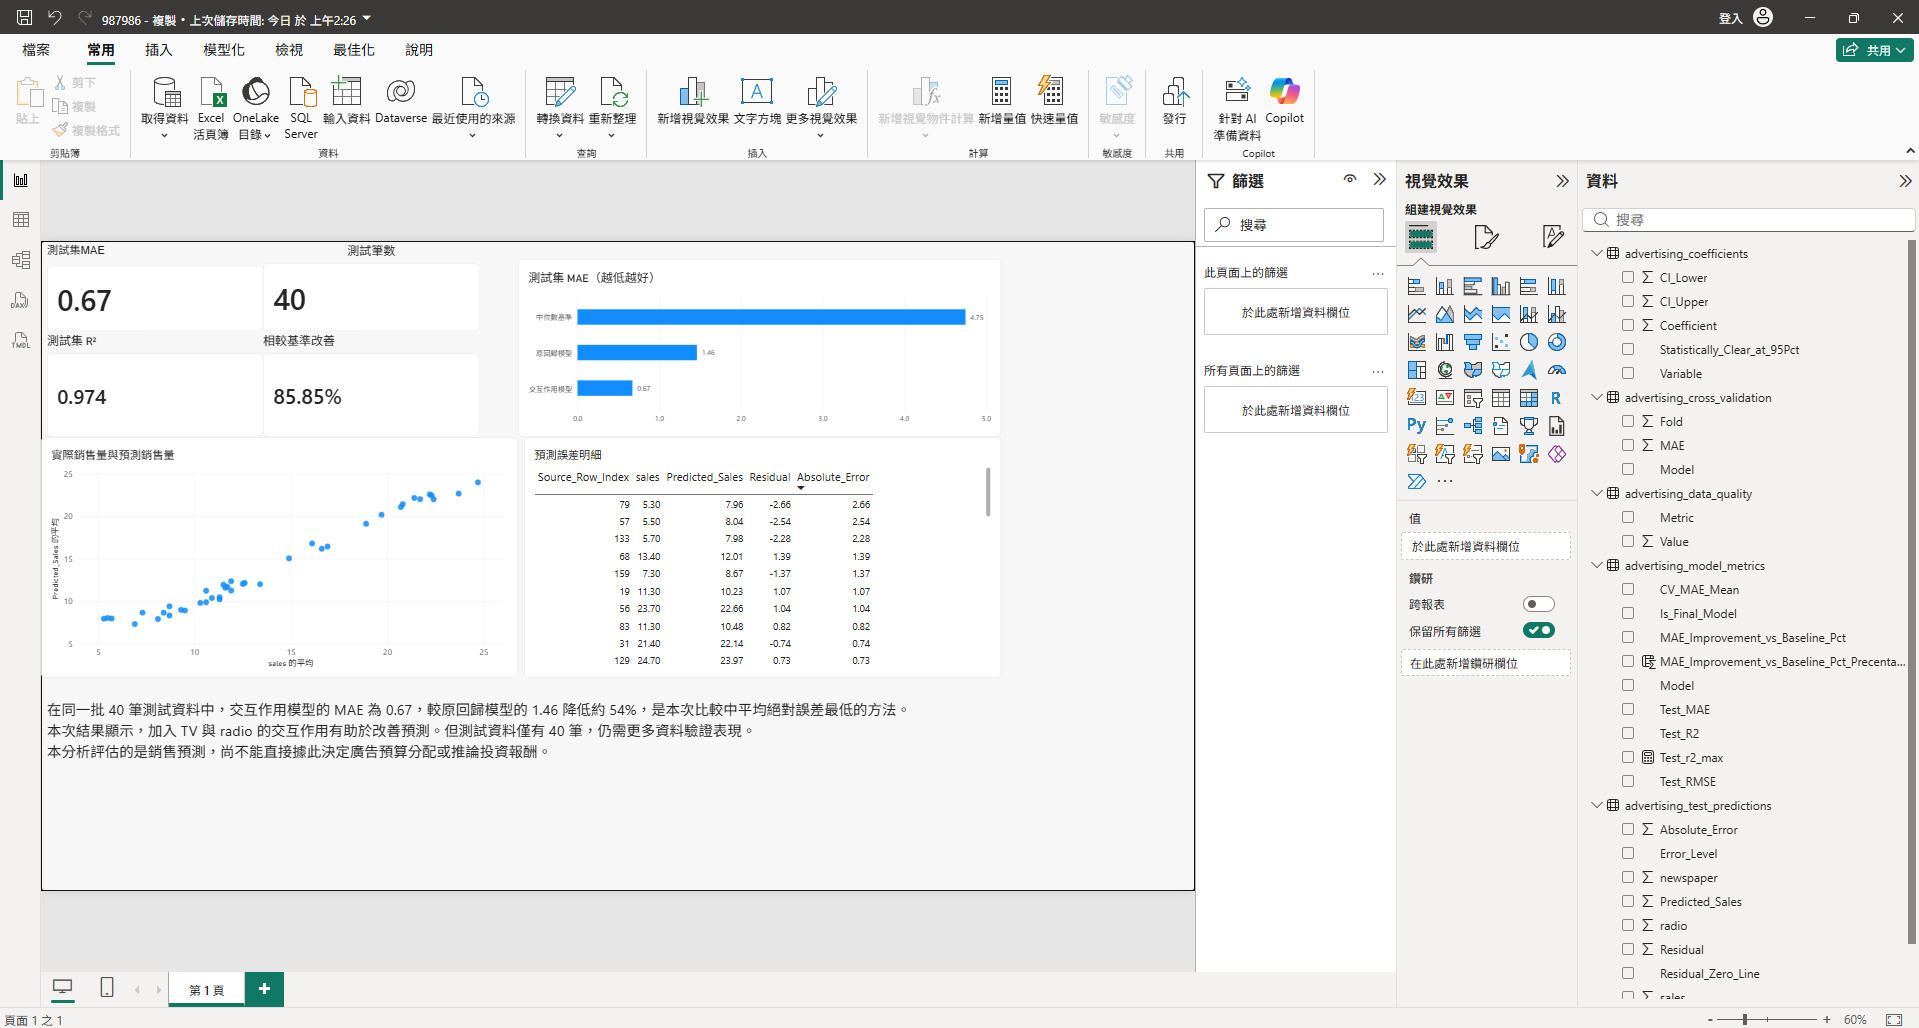

Layout of this report page (visuals, bound fields, positions):
{"tool":"powerbi","page":{"name":"模型成效總覽","canvas":[1920,1080],"ordinal":0},"visuals":[{"type":"cardVisual","title":"測試集MAE","fields":{"Data":["Avg(advertising_test_predictions.Absolute_Error)"]},"box":[10.2,0,360,150],"z":0},{"type":"cardVisual","title":"測試筆數","fields":{"Data":["CountNonNull(advertising_test_predictions.Source_Row_Index)"]},"box":[369.4,0,360,150],"z":1000},{"type":"scatterChart","title":"實際銷售量與預測銷售量","fields":{"X":["Avg(advertising_test_predictions.sales)"],"Y":["Avg(advertising_test_predictions.Predicted_Sales)"],"Category":["advertising_test_predictions.Source_Row_Index"]},"box":[0,325.3,793.7,401.2],"z":2000},{"type":"tableEx","title":"預測誤差明細","fields":{"Values":["advertising_test_predictions.Source_Row_Index","advertising_test_predictions.sales","advertising_test_predictions.Predicted_Sales","advertising_test_predictions.Residual","advertising_test_predictions.Absolute_Error"]},"box":[803.9,325.3,793.7,401.2],"z":3000},{"type":"clusteredBarChart","title":"測試集 MAE（越低越好）","fields":{"Category":["advertising_model_metrics.Model"],"Y":["Avg(advertising_model_metrics.Test_MAE)"]},"box":[793.7,29.2,803.9,296.2],"z":4000},{"type":"textbox","box":[10.2,760.1,1587.4,175.1],"z":5000},{"type":"cardVisual","title":"測試集 R²","fields":{"Data":["advertising_model_metrics.Test_r2_max"]},"box":[10,149.7,360,175],"z":6000},{"type":"cardVisual","title":"相較基準改善","fields":{"Data":["Max(advertising_model_metrics.MAE_Improvement_vs_Baseline_Pct_Precentage)"]},"box":[369.4,149.7,360,175],"z":6001}]}

Visuals, with their boxes on the page's 1920x1080 design canvas (x1, y1, x2, y2). These are canvas units, not pixel positions in the 1919x1028 screenshot, which may show the page scaled, cropped or inside an application window:
"測試集MAE" cardVisual: Rect(10, 0, 370, 150)
"測試筆數" cardVisual: Rect(369, 0, 729, 150)
"實際銷售量與預測銷售量" scatterChart: Rect(0, 325, 794, 726)
"預測誤差明細" tableEx: Rect(804, 325, 1598, 726)
"測試集 MAE（越低越好）" clusteredBarChart: Rect(794, 29, 1598, 325)
textbox: Rect(10, 760, 1598, 935)
"測試集 R²" cardVisual: Rect(10, 150, 370, 325)
"相較基準改善" cardVisual: Rect(369, 150, 729, 325)
